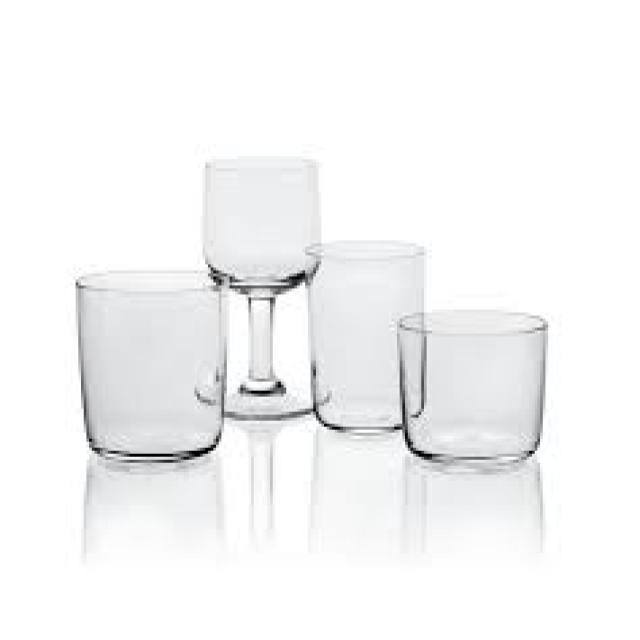Glass: (201, 155, 328, 417), (75, 265, 221, 465), (300, 234, 427, 434), (396, 310, 554, 470)
